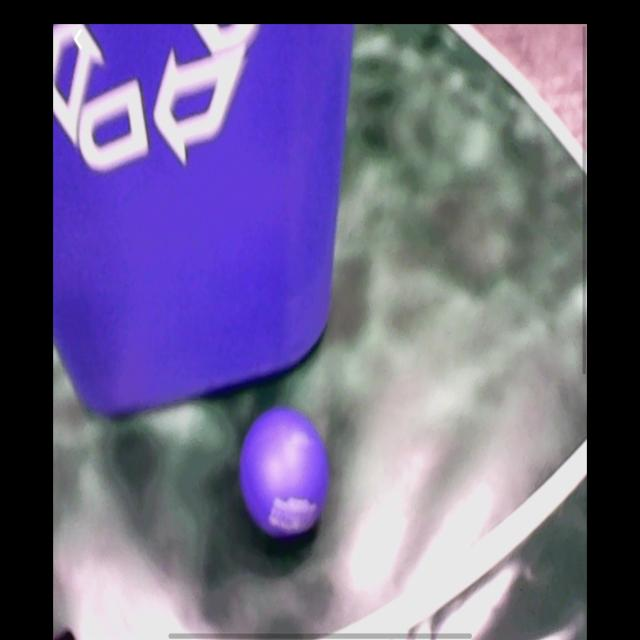ball: (241, 406, 330, 538)
